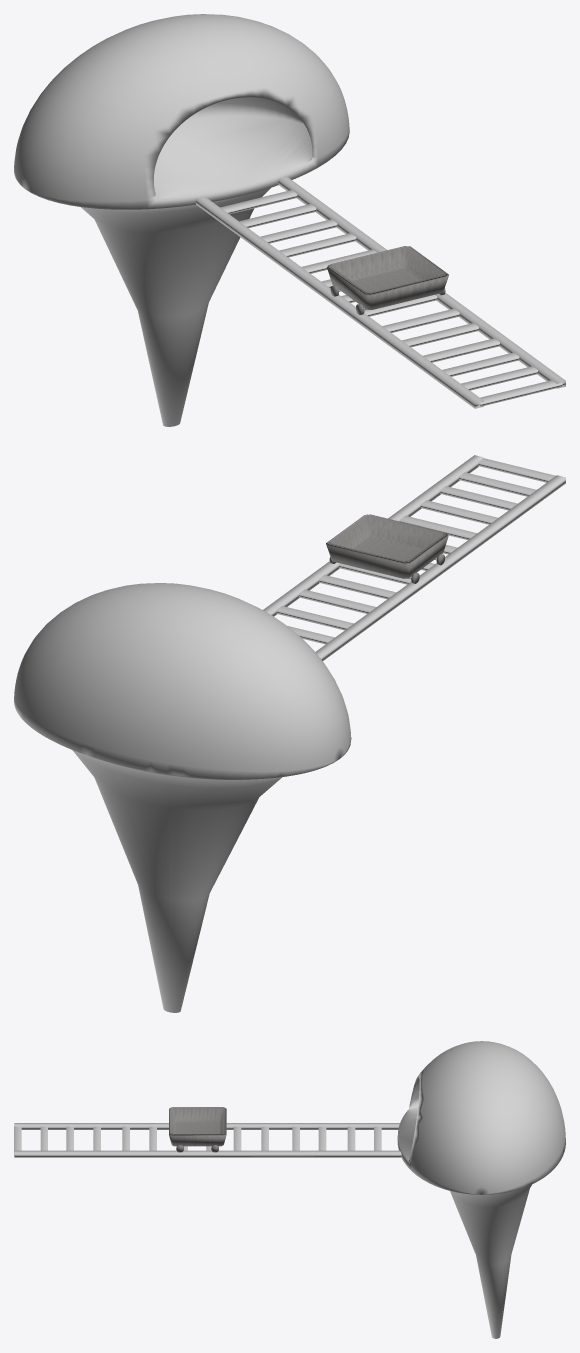
File: Oven.fbx
3 views of the same model, one above another, from view 1: azimuth 30°, elevation 25°; view 2: azimuth 150°, elevation 25°; view 3: azimuth 270°, elevation 25° (orthographic). The views are drawn at different scales.
Visible parts, largest first — view 1: Oven, Carriage, Railway_L, Railway_R, Railway_Obj.013, Railway_Obj.003, Railway_Obj.011, Railway_Obj.002, Railway_Obj.001, Railway_Obj.012, Railway_Obj, Railway_Obj.009 (+2 smaller); view 2: Oven, Carriage, Railway_L, Railway_R, Railway_Obj.012, Railway_Obj.011, Railway_Obj.013, Railway_Obj.010, Railway_Obj.005, Railway_Obj.003, Railway_Obj.004; view 3: Oven, Railway_R, Carriage, Railway_L.
Part boxes in pixels (left/top/right/bottom): Oven: left=14, top=14, right=349, bottom=426; Carriage: left=327, top=246, right=448, bottom=309; Railway_L: left=195, top=197, right=483, bottom=408; Railway_R: left=278, top=176, right=565, bottom=388; Railway_Obj.013: left=480, top=380, right=562, bottom=406; Railway_Obj.003: left=279, top=233, right=356, bottom=257; Railway_Obj.011: left=442, top=352, right=519, bottom=376; Railway_Obj.002: left=260, top=219, right=337, bottom=243; Railway_Obj.001: left=239, top=204, right=316, bottom=228; Railway_Obj.012: left=461, top=366, right=537, bottom=390; Railway_Obj: left=220, top=190, right=297, bottom=214; Railway_Obj.009: left=402, top=323, right=478, bottom=347; Oven: left=14, top=583, right=351, bottom=1012; Carriage: left=326, top=514, right=448, bottom=578; Railway_L: left=315, top=475, right=565, bottom=660; Railway_R: left=263, top=455, right=483, bottom=616; Railway_Obj.012: left=459, top=472, right=536, bottom=496; Railway_Obj.011: left=440, top=486, right=517, bottom=510; Railway_Obj.013: left=478, top=458, right=555, bottom=482; Railway_Obj.010: left=421, top=500, right=498, bottom=524; Railway_Obj.005: left=319, top=575, right=396, bottom=599; Railway_Obj.003: left=276, top=606, right=353, bottom=630; Railway_Obj.004: left=299, top=589, right=376, bottom=613; Oven: left=397, top=1041, right=565, bottom=1338; Railway_R: left=14, top=1150, right=401, bottom=1157; Carriage: left=169, top=1107, right=226, bottom=1146; Railway_L: left=14, top=1123, right=399, bottom=1129.
Size of the model in its own units: 288 by 356 by 636.
